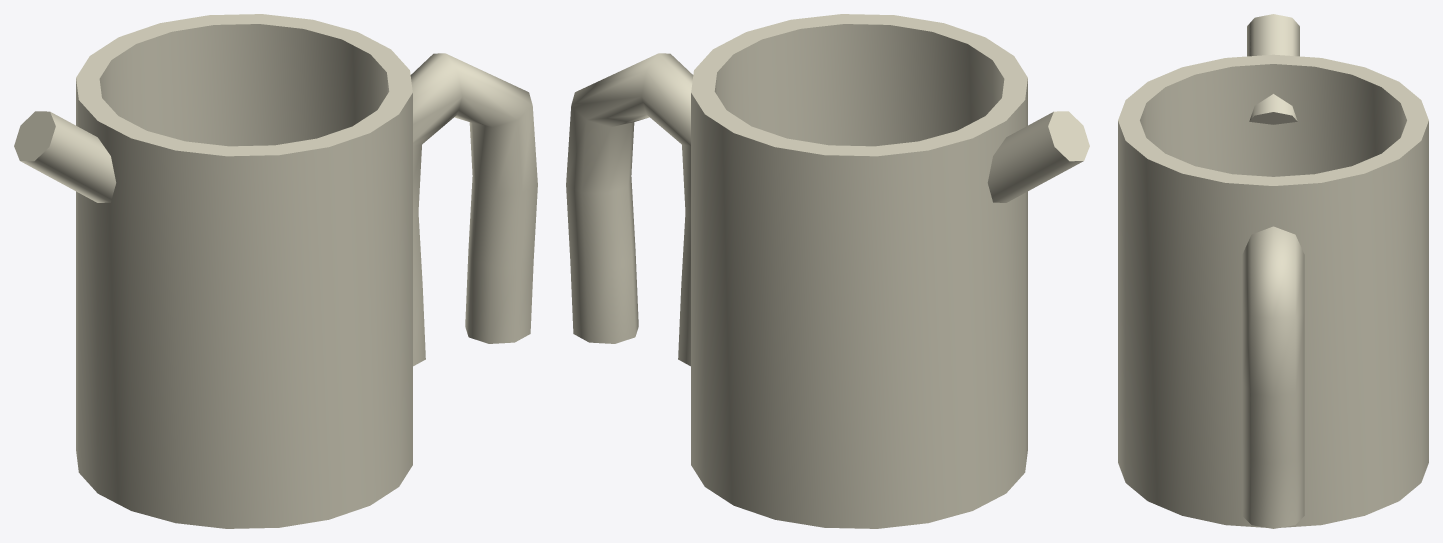
Rendered from survival-food-and-preservation-pouring-jug-dac24c96__21784.glb.
The picture shows the model from 3 angles, left to right: view 1: azimuth 30°, elevation 25°; view 2: azimuth 150°, elevation 25°; view 3: azimuth 270°, elevation 25°; orthographic projection. The views are drawn at different scales.
Visible parts, largest first — view 1: pouring-jug; view 2: pouring-jug; view 3: pouring-jug.
Boxes of the visible parts, <box> form: pouring-jug: <box>14,14,537,528</box>; pouring-jug: <box>566,14,1089,528</box>; pouring-jug: <box>1118,14,1428,528</box>.
Bounding box in the file's own units: 0.2457 × 0.1796 × 0.14.
